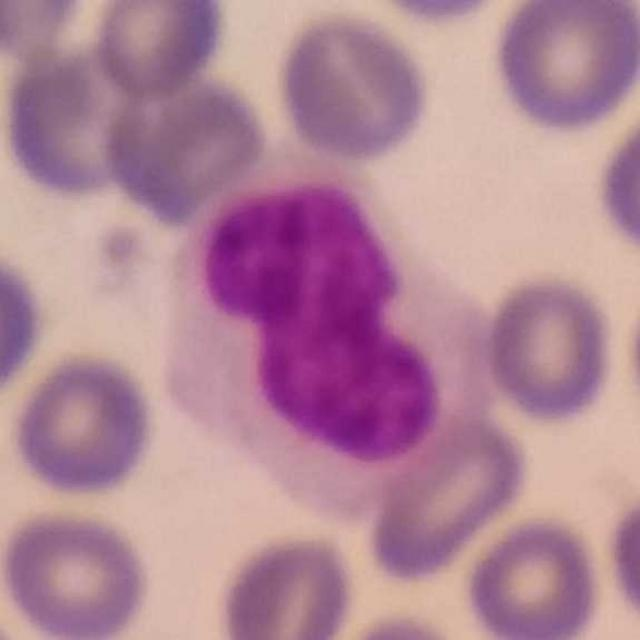mono: (161, 144, 502, 531)
